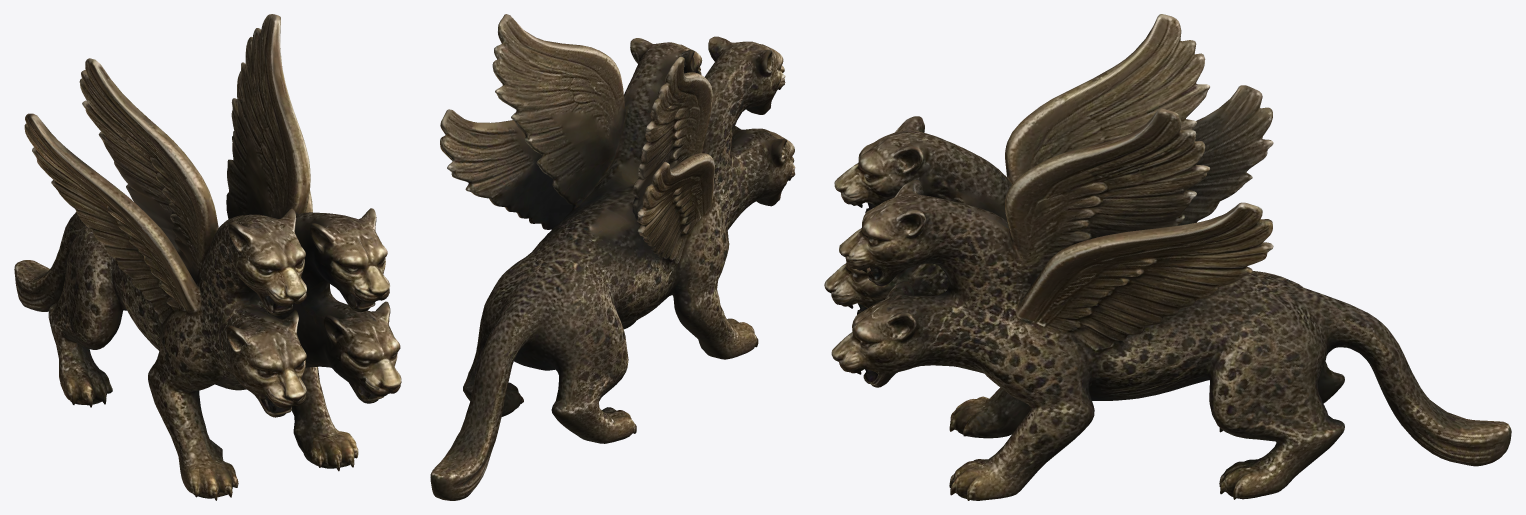
The model's file is leopard.glb.
3 views of the same model, side by side, from view 1: azimuth 30°, elevation 25°; view 2: azimuth 150°, elevation 25°; view 3: azimuth 270°, elevation 25° (orthographic). The views are drawn at different scales.
Parts seen in each view (by area): view 1: node_0; view 2: node_0; view 3: node_0.
Boxes of the visible parts, x1=… form: node_0: x1=14, y1=14, x2=401, y2=500; node_0: x1=430, y1=14, x2=795, y2=500; node_0: x1=824, y1=14, x2=1511, y2=500.
Bounding box in the file's own units: 0.4318 × 0.6644 × 1.04.
1 material, 1 textured.
